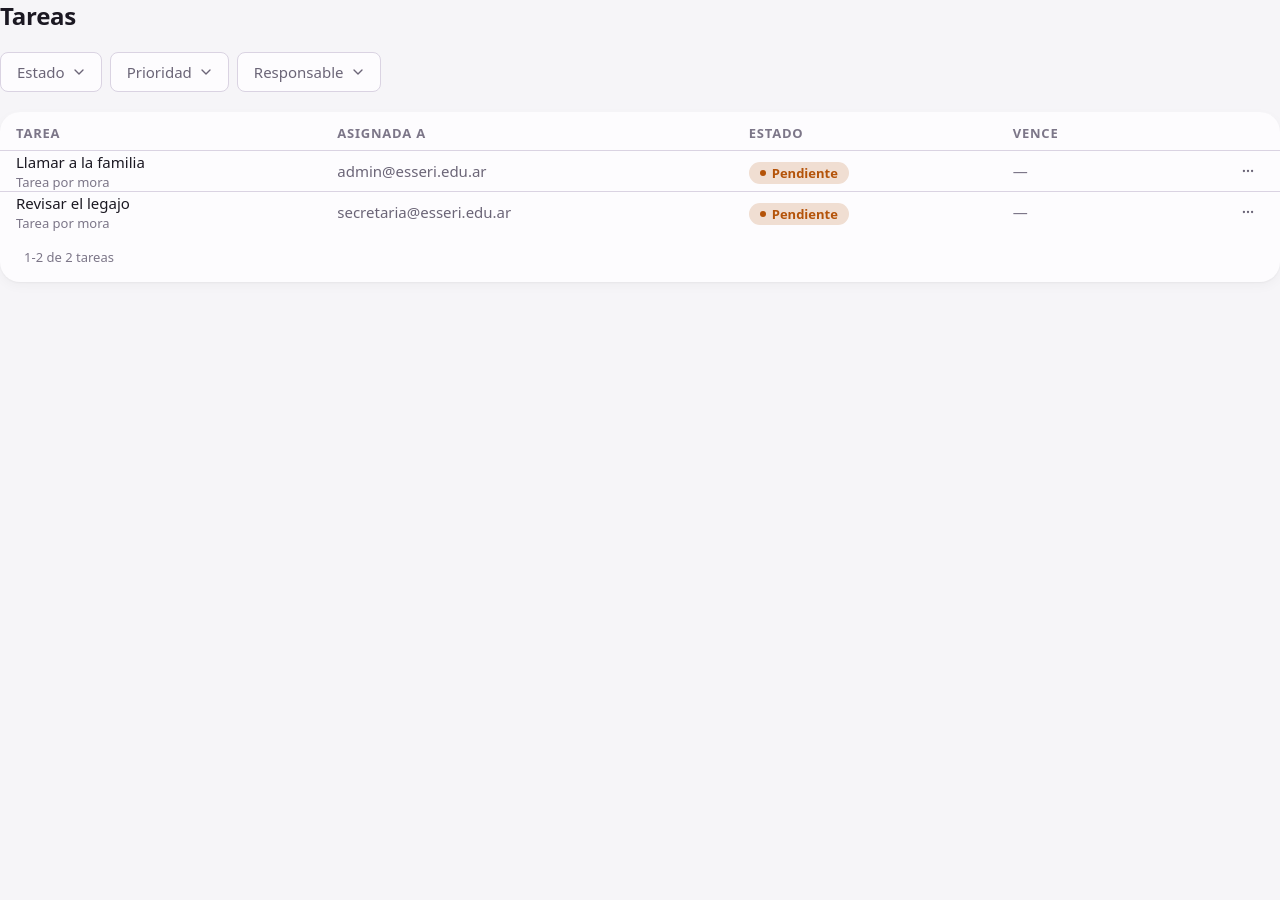
TareasPage › el detalle de una tarea que no se escaló lo aclara
Expected: the text "Revisar el legajo" is shown, [16,193,130,213]
Click the button named "Acciones para ". click: (1248, 171)
box: [1232,155,1264,187]
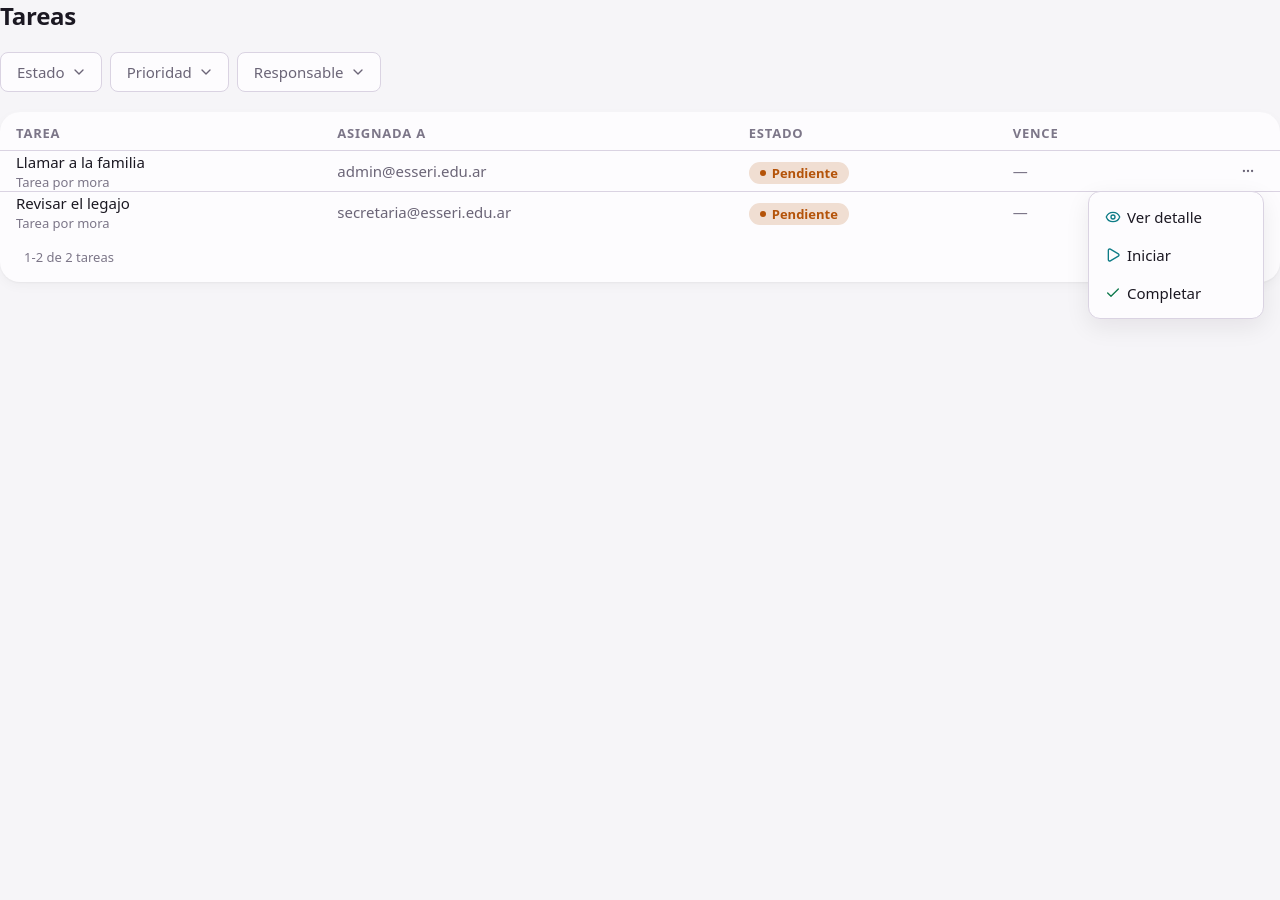
Click the menu item "Ver detalle". click: (1154, 217)
box: [1105,207,1202,227]
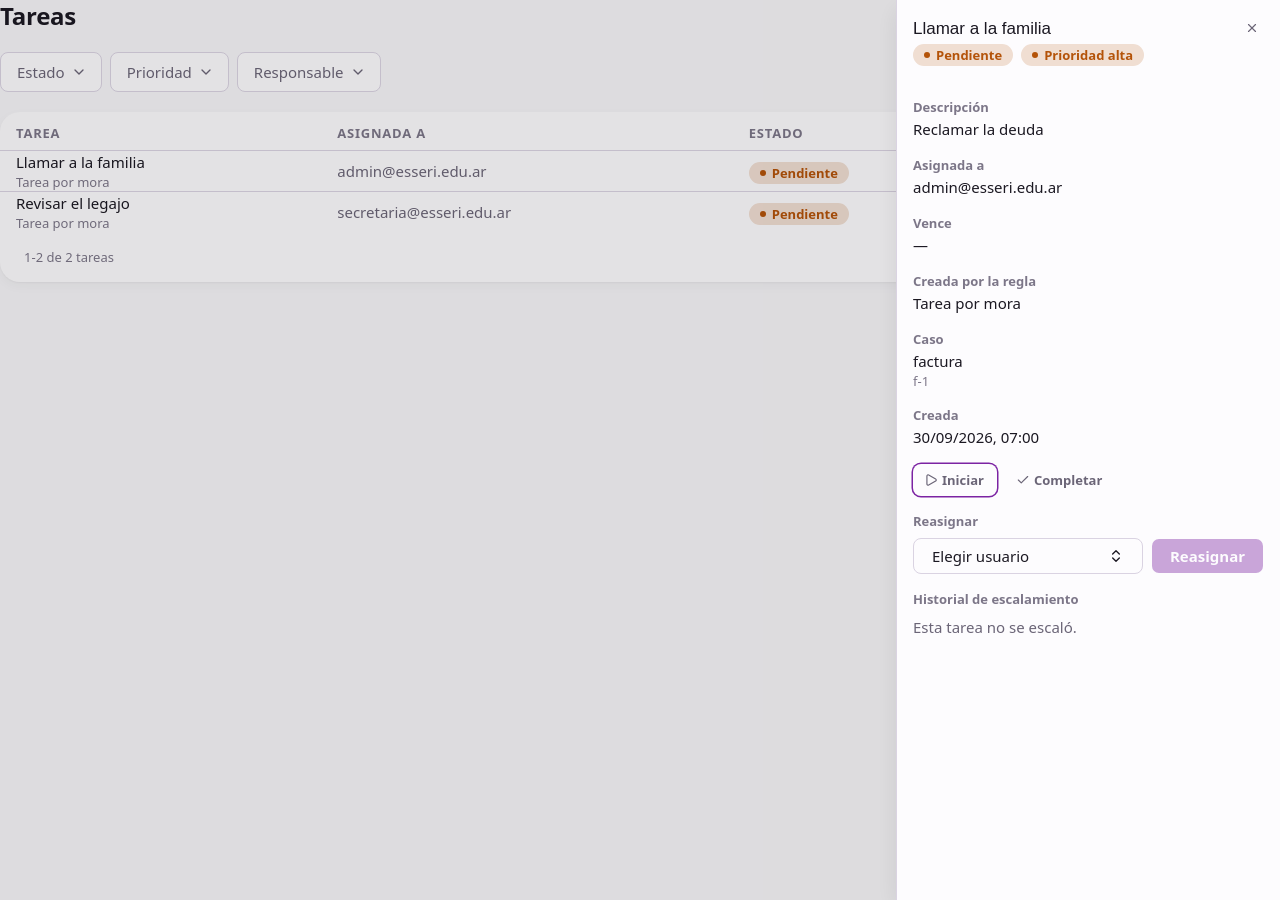
Result: the text "Esta tarea no se escaló." is shown at [913,617,1077,637]
